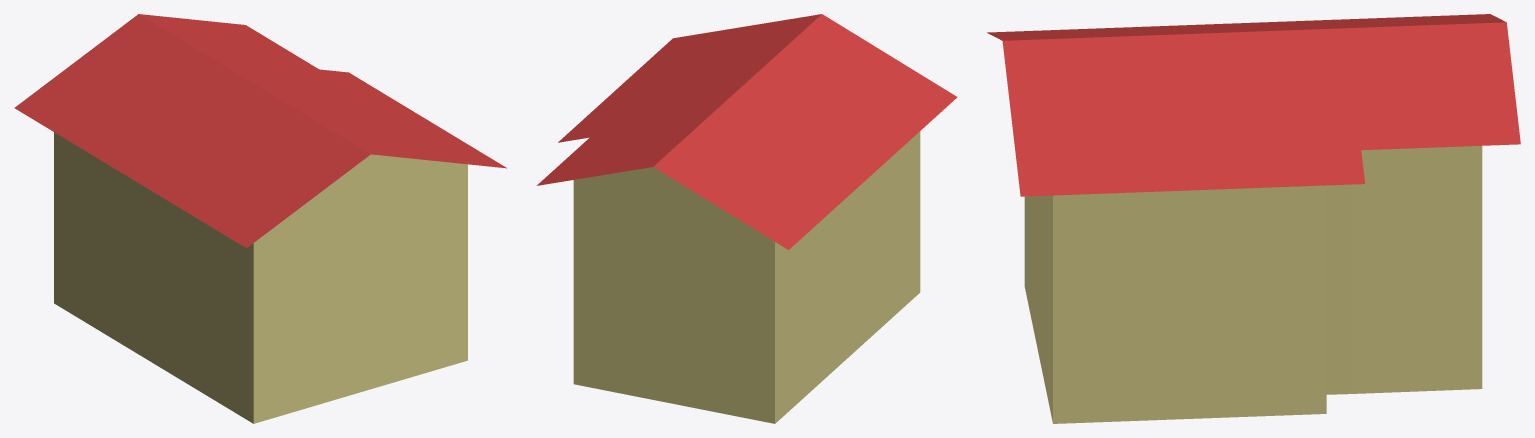
3 views of the same model, side by side, from view 1: azimuth 30°, elevation 25°; view 2: azimuth 150°, elevation 25°; view 3: azimuth 270°, elevation 25° (orthographic). The views are drawn at different scales.
Bounding box in the file's own units: 9.26 × 11.25 × 7.23.
